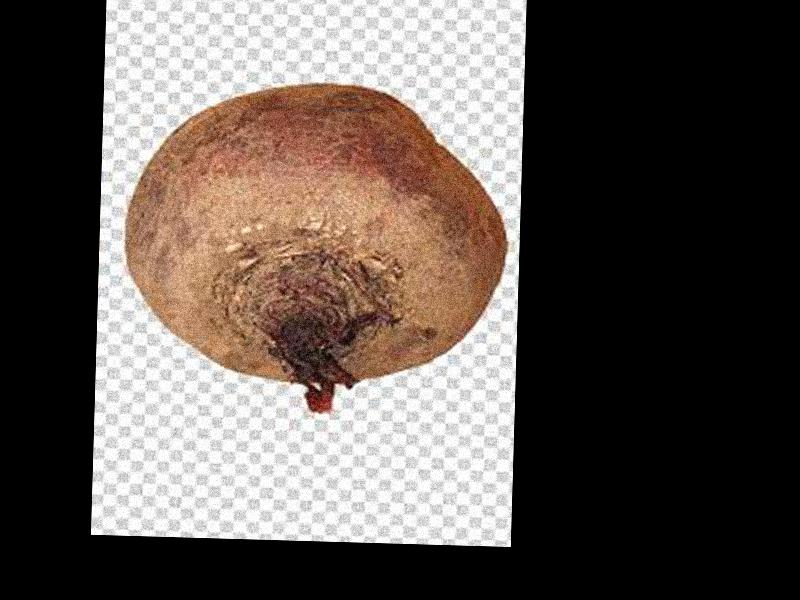Beet: (122, 79, 508, 419)
